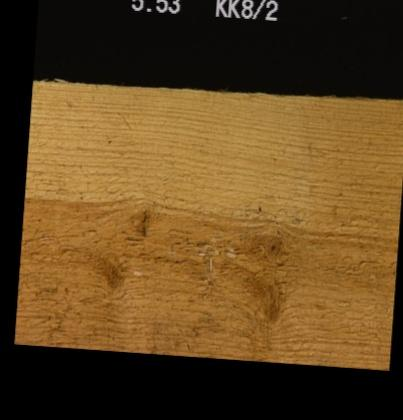sound_knot: (244, 268, 292, 322), (91, 253, 127, 288), (127, 206, 151, 240), (264, 231, 282, 257)
